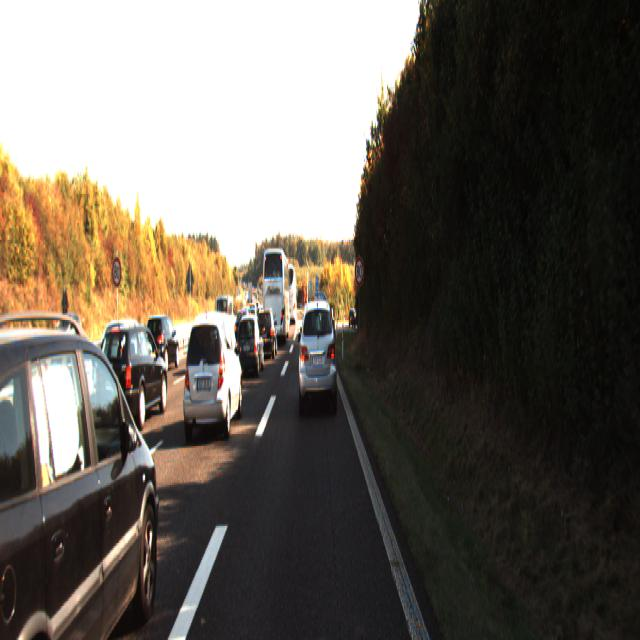Car: (0, 312, 164, 638), (93, 319, 169, 435), (181, 308, 243, 443), (0, 334, 29, 555), (95, 314, 155, 396), (298, 296, 336, 415), (262, 244, 290, 342), (144, 312, 180, 374), (235, 312, 264, 376), (255, 306, 278, 358), (214, 295, 234, 342), (326, 307, 336, 333)
